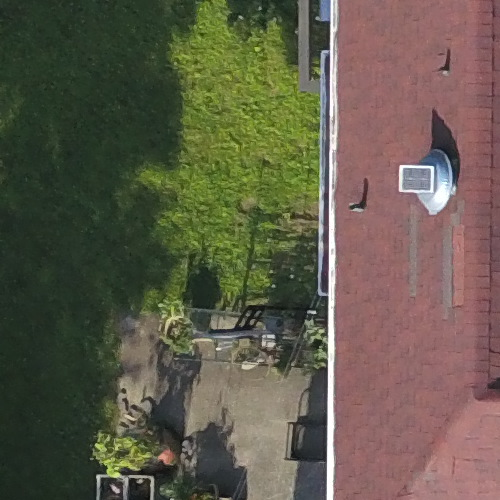basketball: (193, 305, 301, 389)
flower pot: (156, 311, 195, 351)
